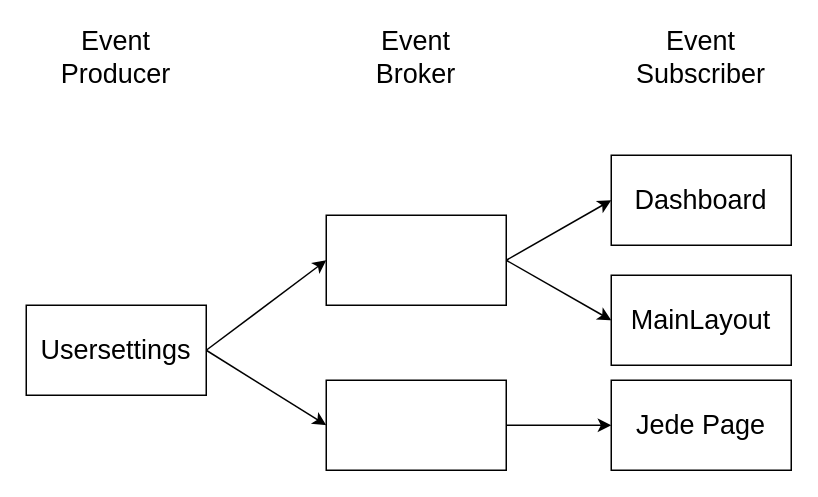
Image size: 818x497. Some labels were removed from this diagram. The centre of each missing label's shape, as x and y in pixels:
ColorService: the point at 415,259
ThemeState Service: the point at 415,424
